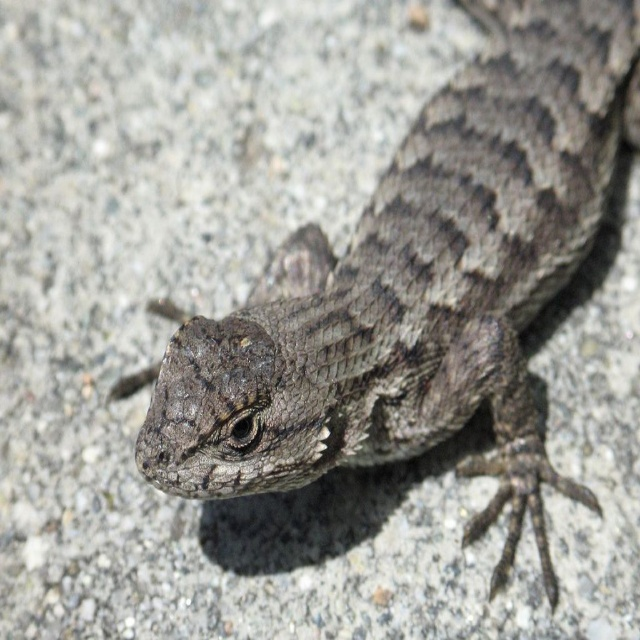Lizard: (108, 0, 640, 609)
